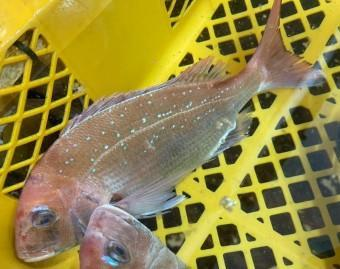fish: (16, 0, 326, 261)
